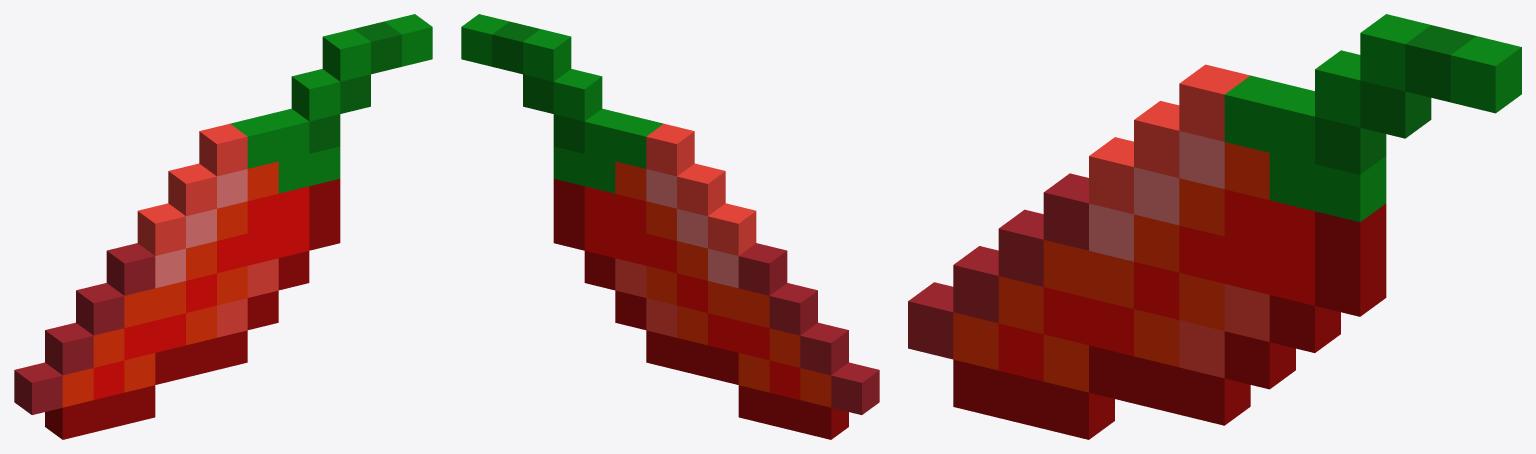
Rendered from Chili Pepper.glb.
3 views of the same model, side by side, from view 1: azimuth 30°, elevation 25°; view 2: azimuth 150°, elevation 25°; view 3: azimuth 330°, elevation 25° (orthographic). The views are drawn at different scales.
Visible parts, largest first — view 1: Untitled.001; view 2: Untitled.001; view 3: Untitled.001.
Boxes of the visible parts, left/top/right/bottom form: Untitled.001: left=14, top=14, right=432, bottom=439; Untitled.001: left=461, top=14, right=879, bottom=439; Untitled.001: left=908, top=14, right=1521, bottom=439.
Bounding box in the file's own units: 6.5 × 5 × 0.5.
Materials: 1 (1 with a texture image).
